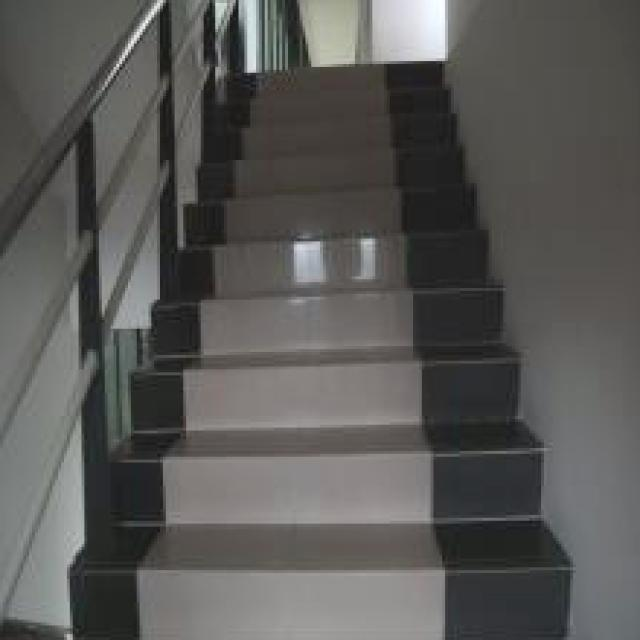upstair: (216, 79, 454, 640)
